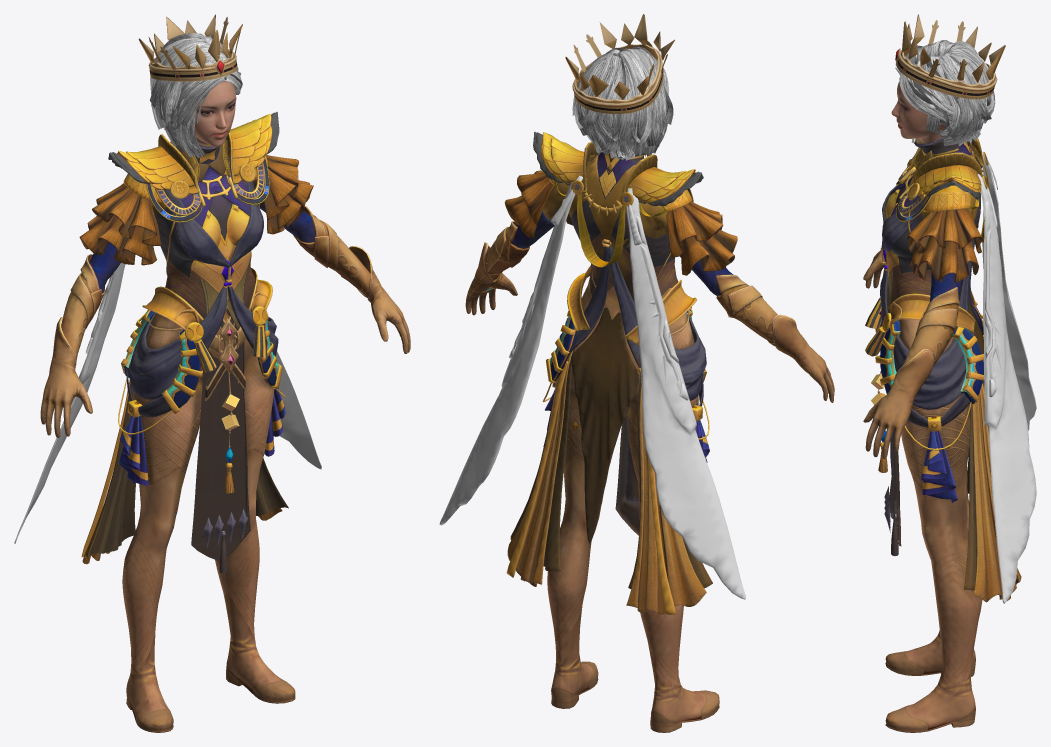
File: iridescence_lvl_2_x-suit_pubg_3d_model.glb
The picture shows the model from 3 angles, left to right: view 1: azimuth 30°, elevation 25°; view 2: azimuth 150°, elevation 25°; view 3: azimuth 270°, elevation 25°; orthographic projection.
Parts seen in each view (by area): view 1: Mesh_0032.rip, Mesh_0035.rip, 4911 sachin yt, Mesh_0018.rip, Mesh_0028.rip, Mesh_0010.rip, Mesh_0015.rip; view 2: Mesh_0035.rip, Mesh_0032.rip, Mesh_0028.rip, Mesh_0018.rip, 4911 sachin yt, Mesh_0010.rip; view 3: Mesh_0032.rip, Mesh_0035.rip, Mesh_0028.rip, Mesh_0018.rip, 4911 sachin yt, Mesh_0010.rip, Mesh_0015.rip.
Boxes of the visible parts, left/top/right/bottom form: Mesh_0032.rip: left=40, top=112, right=410, bottom=437; Mesh_0035.rip: left=81, top=287, right=288, bottom=674; 4911 sachin yt: left=126, top=592, right=295, bottom=732; Mesh_0018.rip: left=150, top=33, right=242, bottom=157; Mesh_0028.rip: left=14, top=263, right=321, bottom=543; Mesh_0010.rip: left=138, top=14, right=242, bottom=81; Mesh_0015.rip: left=194, top=81, right=236, bottom=146; Mesh_0035.rip: left=506, top=276, right=712, bottom=694; Mesh_0032.rip: left=465, top=132, right=834, bottom=402; Mesh_0028.rip: left=439, top=175, right=745, bottom=599; Mesh_0018.rip: left=572, top=46, right=673, bottom=160; 4911 sachin yt: left=551, top=613, right=719, bottom=732; Mesh_0010.rip: left=565, top=14, right=674, bottom=113; Mesh_0032.rip: left=863, top=138, right=989, bottom=458; Mesh_0035.rip: left=865, top=295, right=1021, bottom=693; Mesh_0028.rip: left=977, top=154, right=1036, bottom=603; Mesh_0018.rip: left=895, top=40, right=995, bottom=146; 4911 sachin yt: left=885, top=630, right=975, bottom=732; Mesh_0010.rip: left=895, top=14, right=1005, bottom=99; Mesh_0015.rip: left=891, top=81, right=947, bottom=142.
Bounding box in the file's own units: 1.06 × 1.91 × 0.4443.
Materials: 7 (6 with a texture image).
